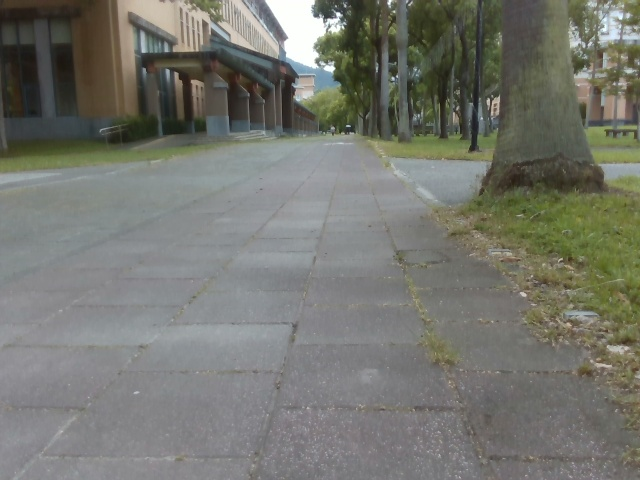grass: (303, 0, 639, 200), (440, 127, 639, 350), (0, 120, 305, 172), (356, 135, 495, 167)
road: (0, 136, 639, 479)
